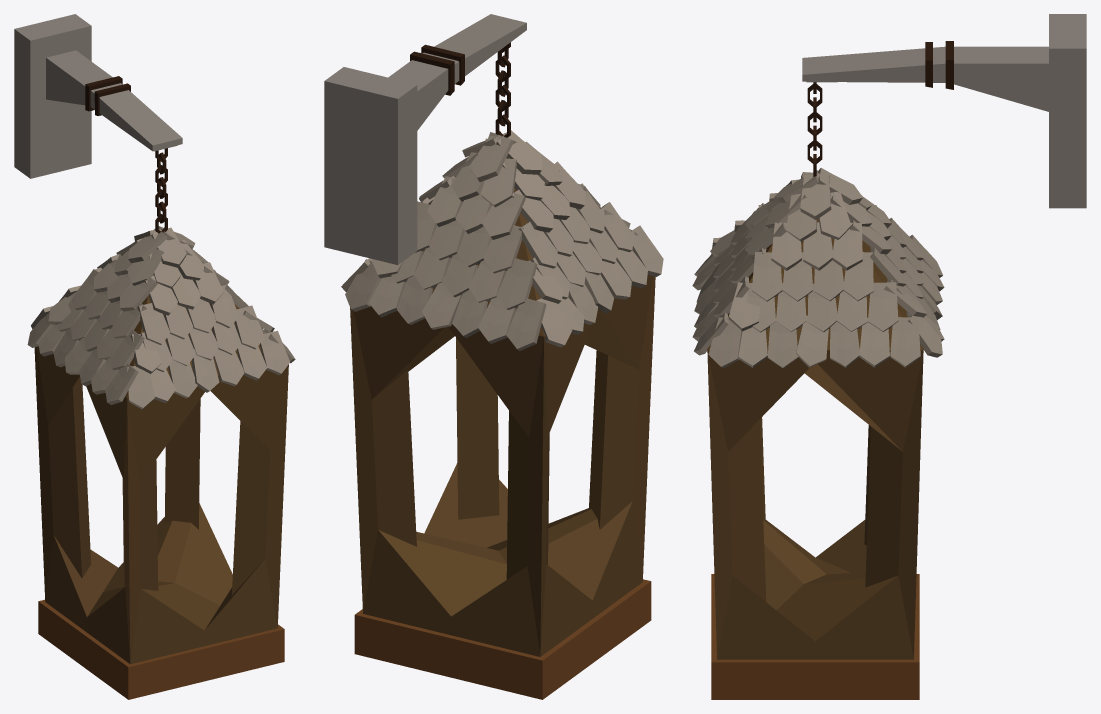
The model's file is LAMP.fbx.
The picture shows the model from 3 angles, left to right: view 1: azimuth 30°, elevation 25°; view 2: azimuth 150°, elevation 25°; view 3: azimuth 270°, elevation 25°; orthographic projection. The views are drawn at different scales.
Visible parts, largest first — view 1: Cube.194; view 2: Cube.194; view 3: Cube.194.
Part boxes in pixels (bbox=[...]): Cube.194: bbox=[14, 14, 295, 699]; Cube.194: bbox=[324, 14, 663, 699]; Cube.194: bbox=[692, 14, 1086, 699].
Bounding box in the file's own units: 148 × 405 × 231.
